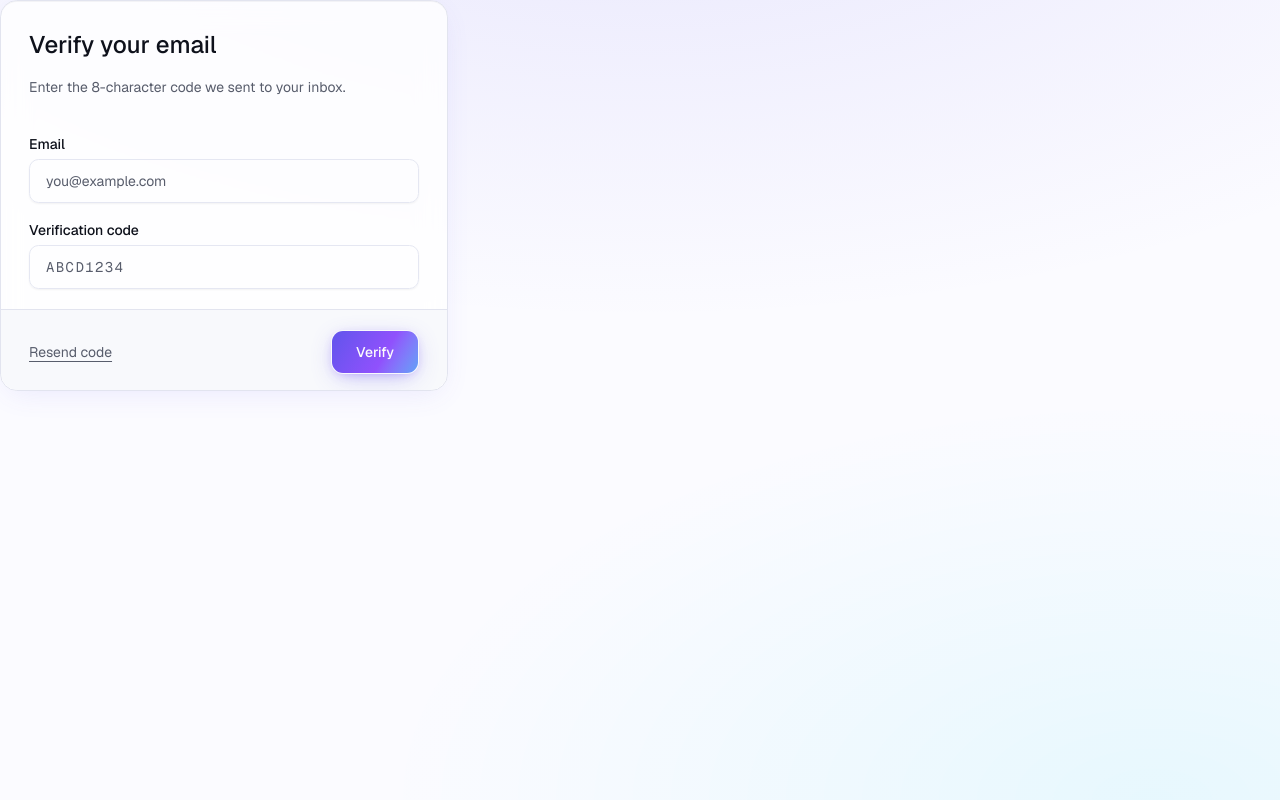
Scenario: <VerifyEmailForm /> › shows invalid/expired message on 400
Type "a@b.com" into the field labelled "Email" at (224, 181), box [29,159,419,203]
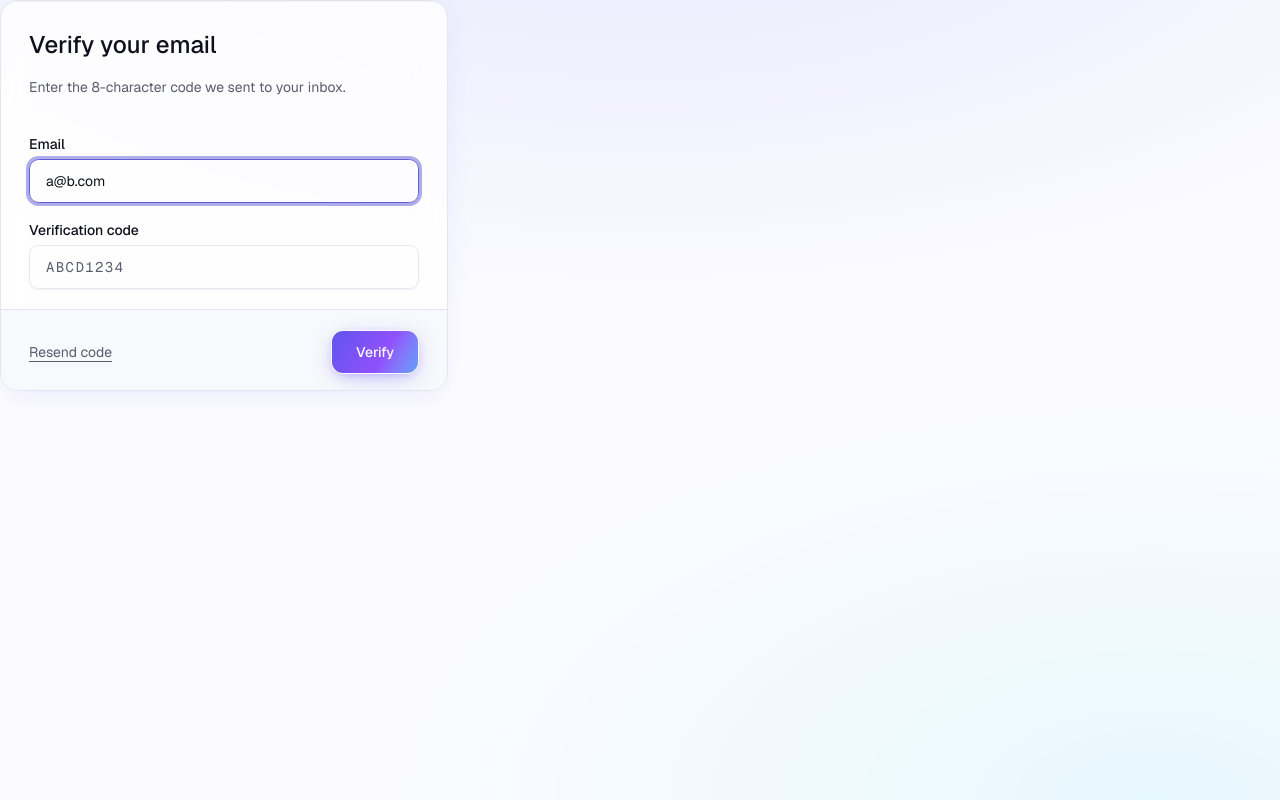
Type "BADCODE1" into the field labelled "Verification code" at (224, 267), box [29,245,419,289]
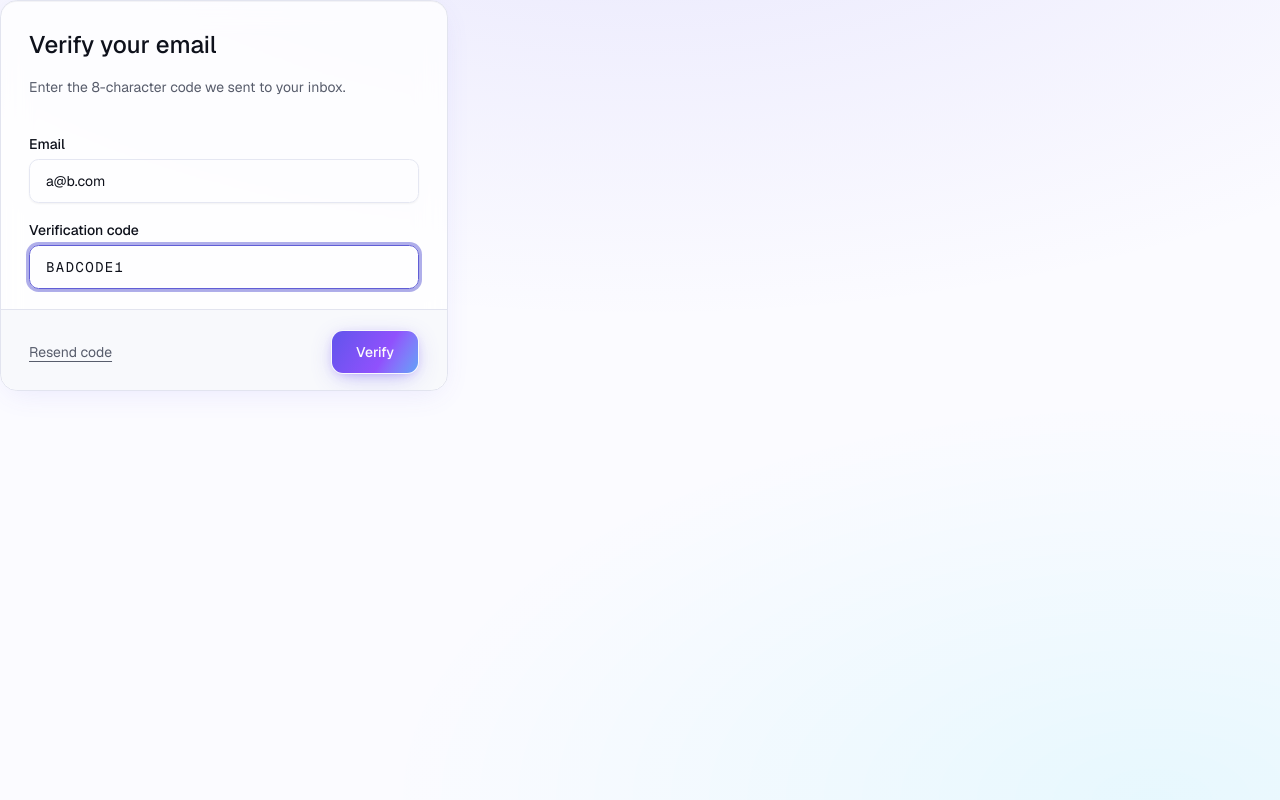
Click the button "Verify" at (375, 352), box [331,330,419,374]
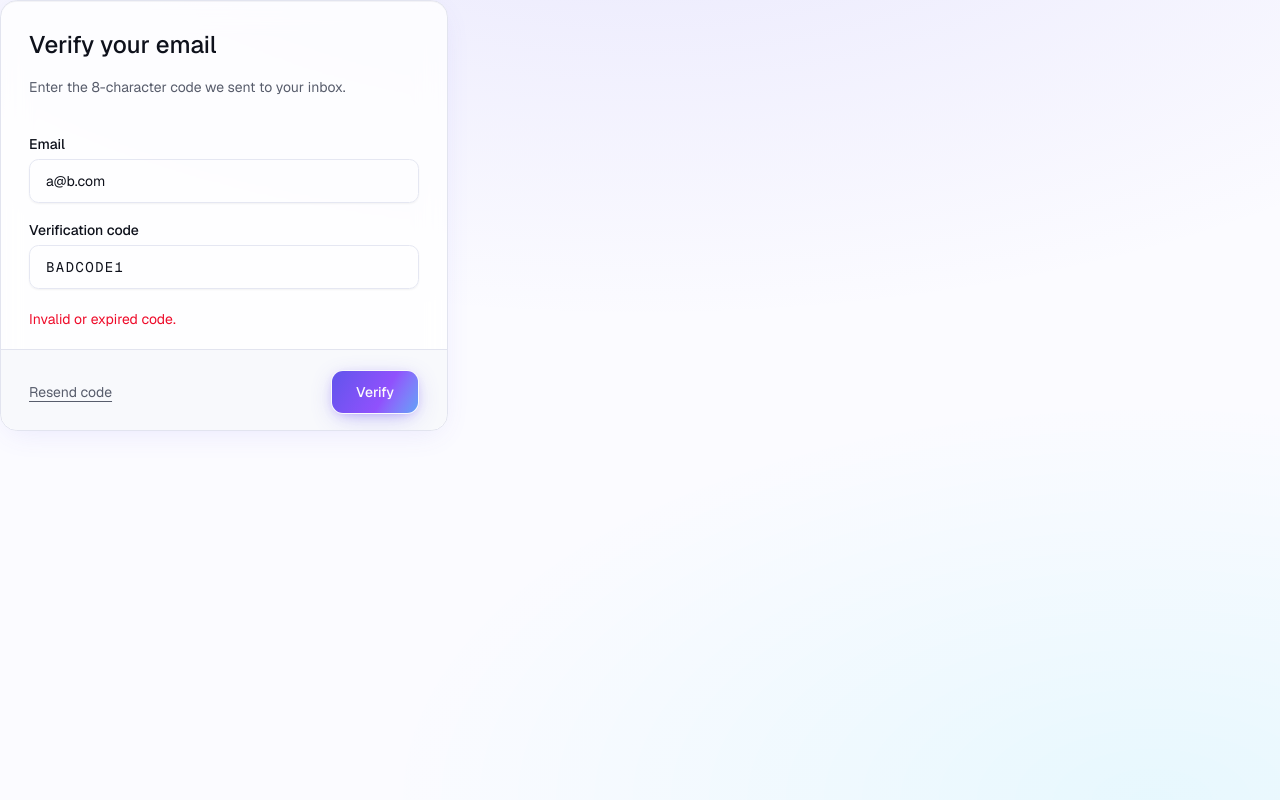
expect the message shows "Invalid or expired": met, box [29,310,176,328]
